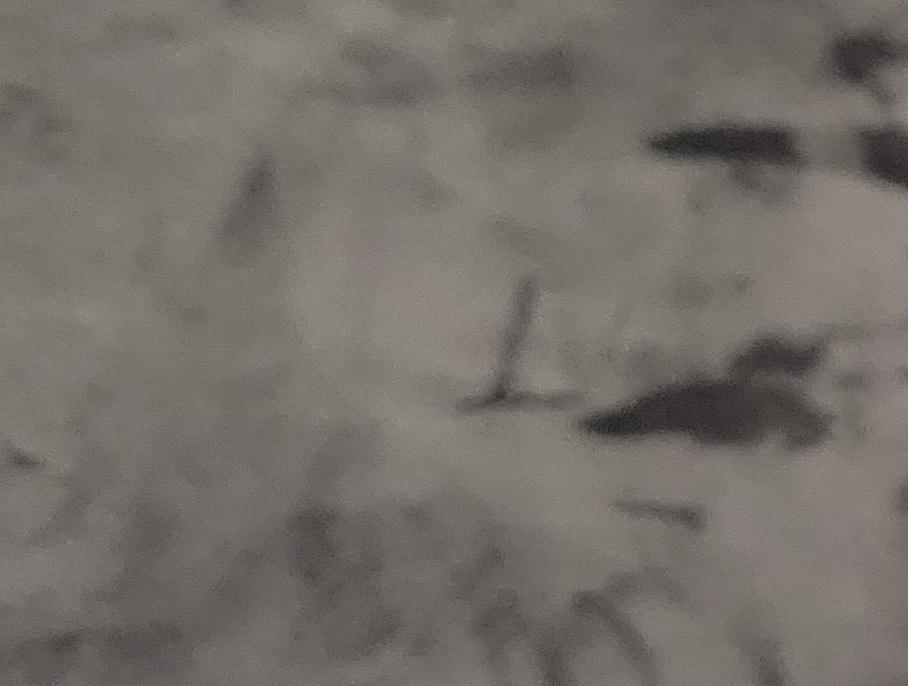Chip: (1, 424, 621, 686)
